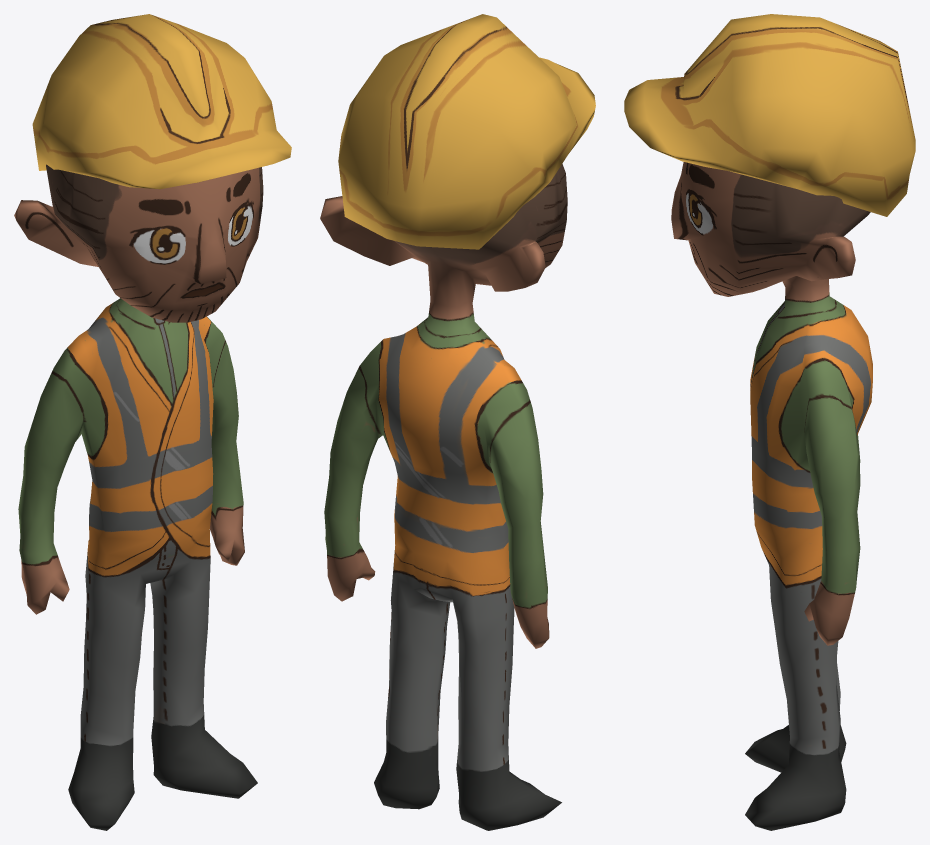
Rendered from builderboybob.obj.
3 renders of one model, left to right at view 1: azimuth 30°, elevation 25°; view 2: azimuth 150°, elevation 25°; view 3: azimuth 270°, elevation 25°, orthographic.
Visible parts, largest first — view 1: polySurface1_lambert2SG, polySurface8_initialShadingGroup; view 2: polySurface1_lambert2SG, polySurface8_initialShadingGroup; view 3: polySurface1_lambert2SG, polySurface8_initialShadingGroup.
Boxes of the visible parts, x1,y1,x2,y2 form: polySurface1_lambert2SG: (14,164,263,830); polySurface8_initialShadingGroup: (32,14,291,189); polySurface1_lambert2SG: (320,164,567,830); polySurface8_initialShadingGroup: (338,14,595,249); polySurface1_lambert2SG: (671,162,872,830); polySurface8_initialShadingGroup: (624,14,915,216).
Size of the model in its own units: 47.68 by 158 by 53.73.
Materials: 2 (2 with a texture image).
